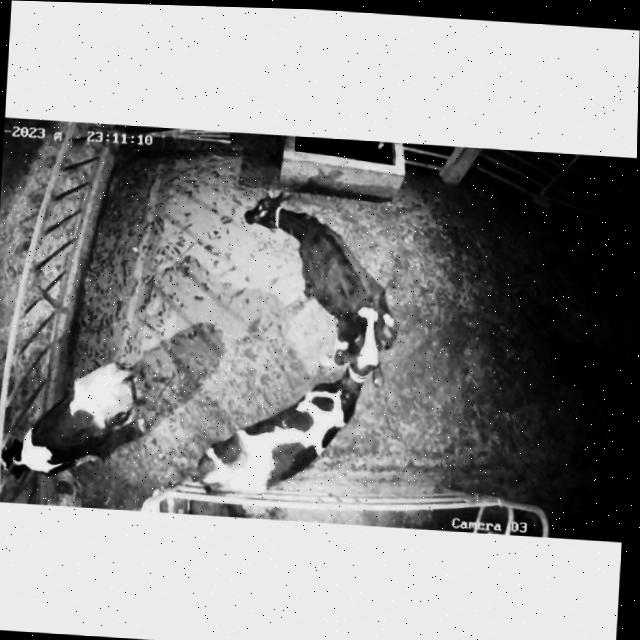eat: (0, 412, 59, 487)
propping: (323, 296, 395, 406)
stand: (242, 193, 401, 346)
